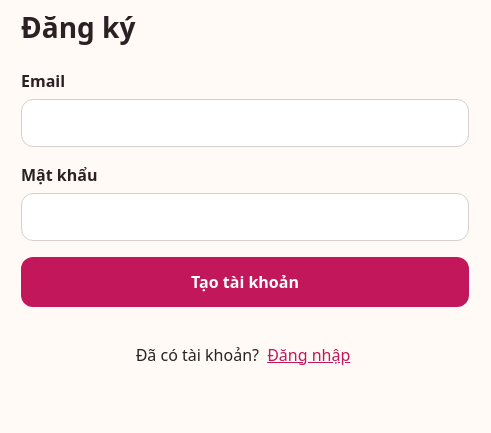
Scenario: SignUpPage shows the server too_common error on the password field
Type "an@example.com" into the field labelled "Email".
click(245, 123); type("an@example.com")  # box x1=21 y1=99 x2=469 y2=147
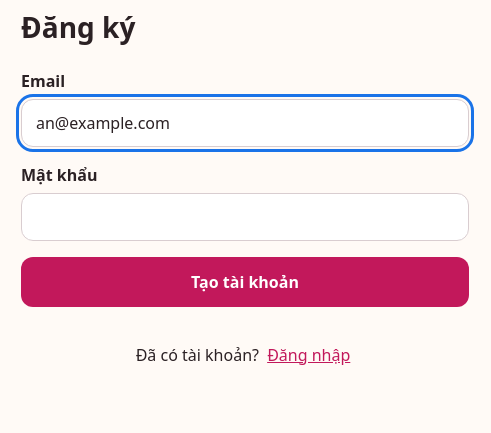
Type "password" into the password field labelled "Mật khẩu".
click(245, 217); type("password")  # box x1=21 y1=193 x2=469 y2=241
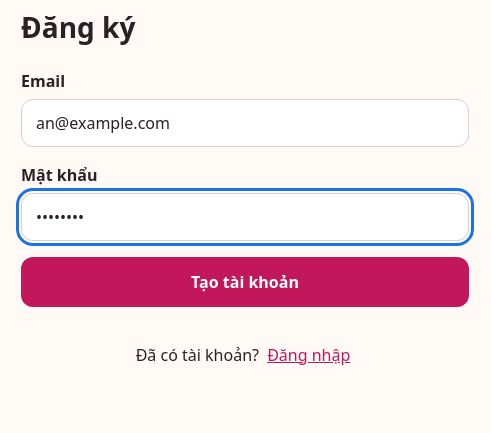
Click the button "Tạo tài khoản".
click(245, 282)  # box x1=21 y1=257 x2=469 y2=307
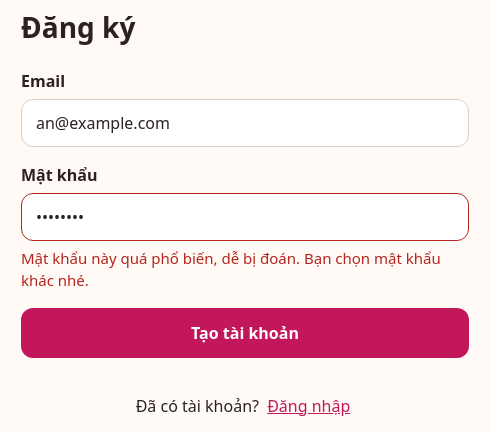
Check: the text "Mật khẩu này quá phổ biến, dễ bị đoán. Bạn chọn mật khẩu khác nhé." is shown, box x1=21 y1=247 x2=469 y2=292
